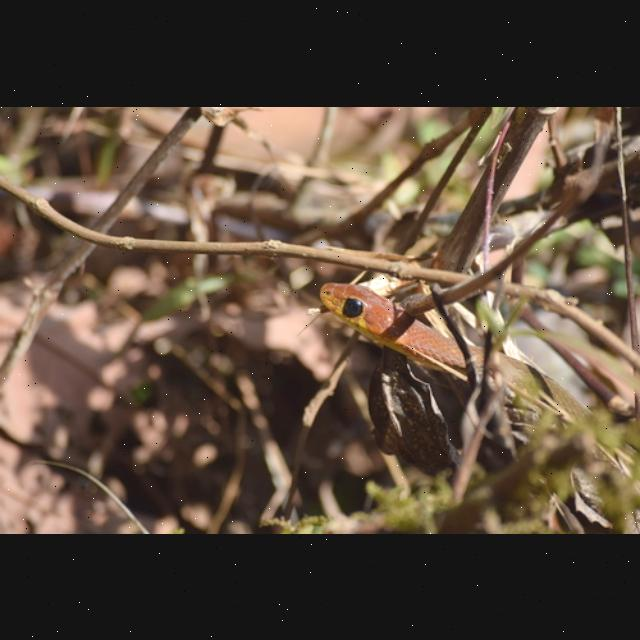snake: (314, 274, 588, 440)
